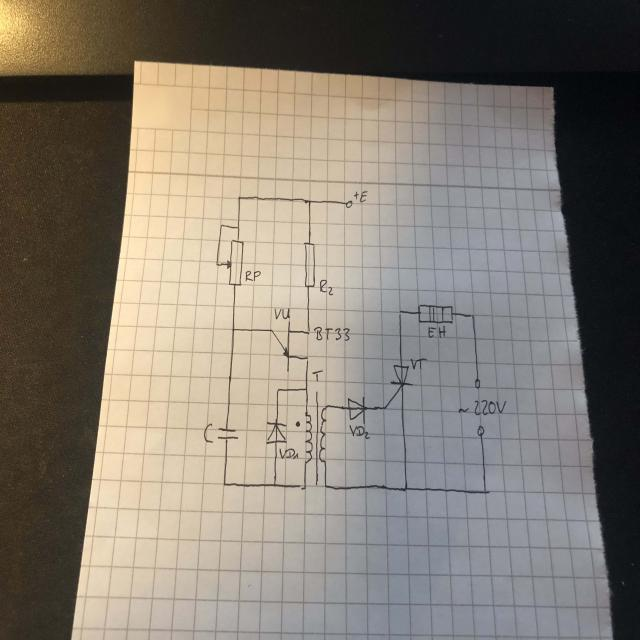capacitor: (217, 426, 240, 442)
diode: (264, 420, 288, 446), (347, 394, 366, 425)
junction: (220, 480, 227, 488), (237, 194, 243, 203), (306, 327, 312, 336), (323, 481, 329, 490), (403, 484, 409, 493), (382, 403, 388, 412), (481, 485, 487, 494), (307, 199, 313, 207), (236, 224, 242, 232), (218, 222, 224, 230), (214, 261, 220, 269), (230, 326, 236, 334), (304, 355, 310, 363), (304, 385, 310, 393), (275, 387, 281, 395), (302, 483, 308, 491), (272, 481, 278, 489), (398, 309, 404, 317), (468, 312, 474, 320)
resistor: (226, 239, 245, 287), (303, 241, 316, 289)
terminal: (476, 424, 485, 440), (472, 376, 482, 390), (343, 198, 354, 210)
text: (458, 398, 507, 415), (313, 326, 350, 342), (348, 423, 371, 440), (278, 447, 300, 461), (318, 278, 334, 296), (427, 326, 447, 340), (202, 422, 214, 444), (244, 269, 261, 282), (273, 308, 290, 320), (410, 358, 427, 370), (358, 190, 368, 204), (312, 370, 323, 382)
thyristor: (389, 364, 413, 395)
transformer: (295, 403, 330, 467)
transistor: (266, 318, 294, 372)
